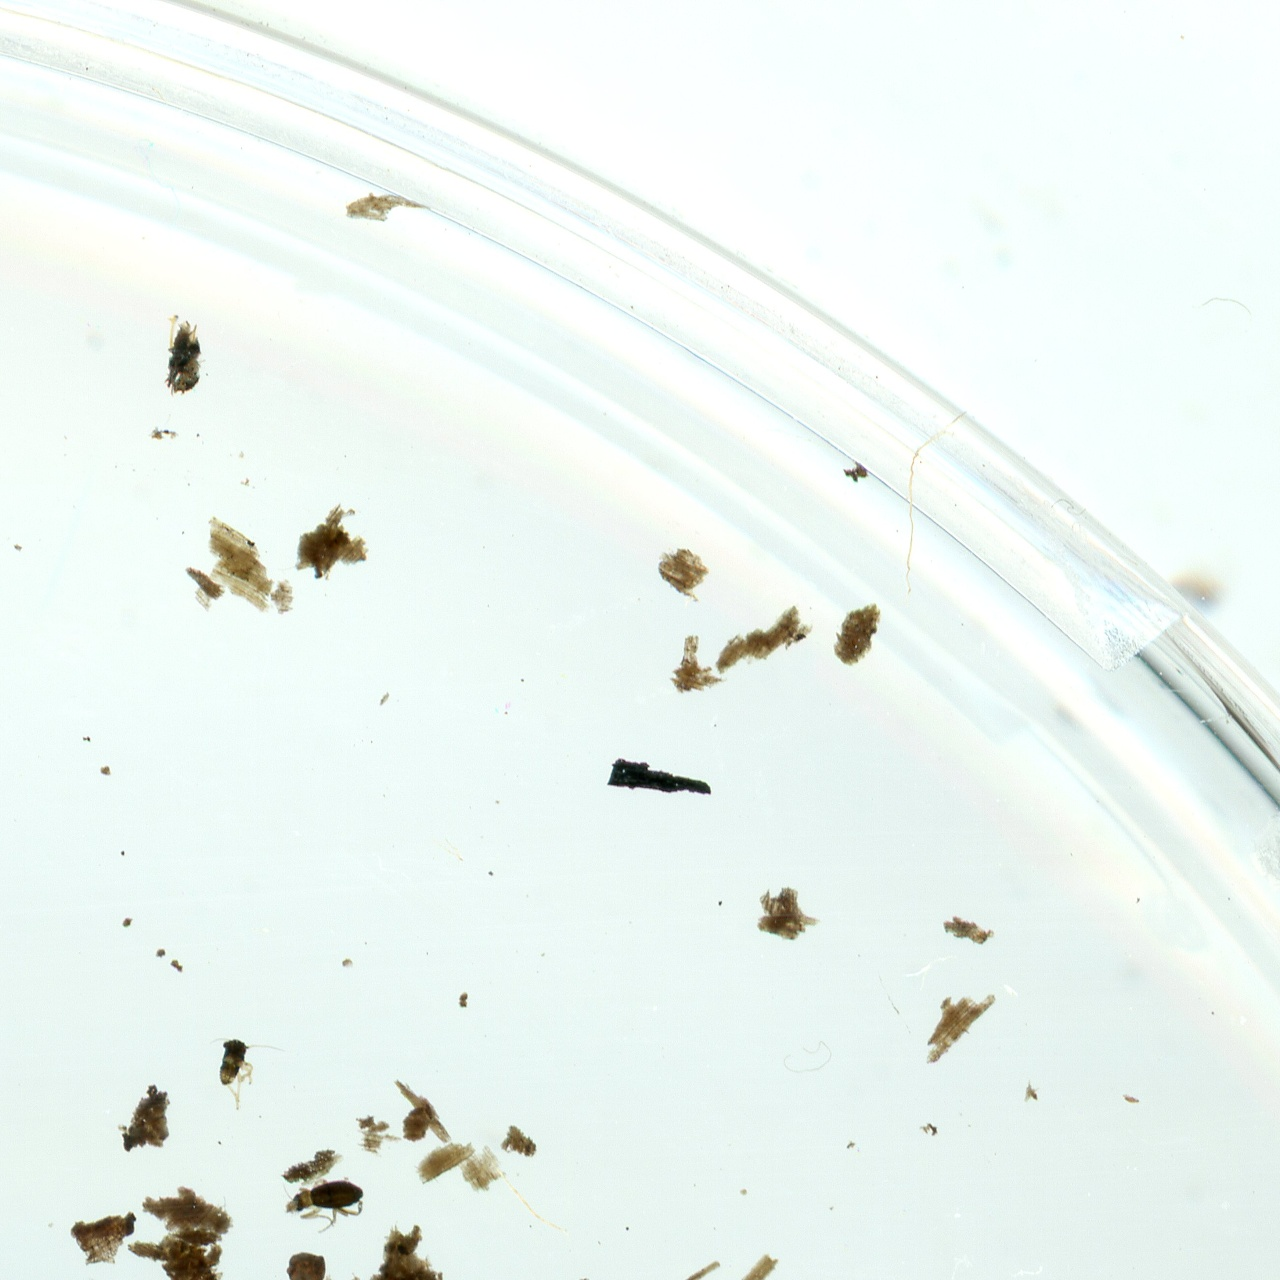arthropod: (204, 1032, 291, 1112), (279, 1172, 372, 1235)
